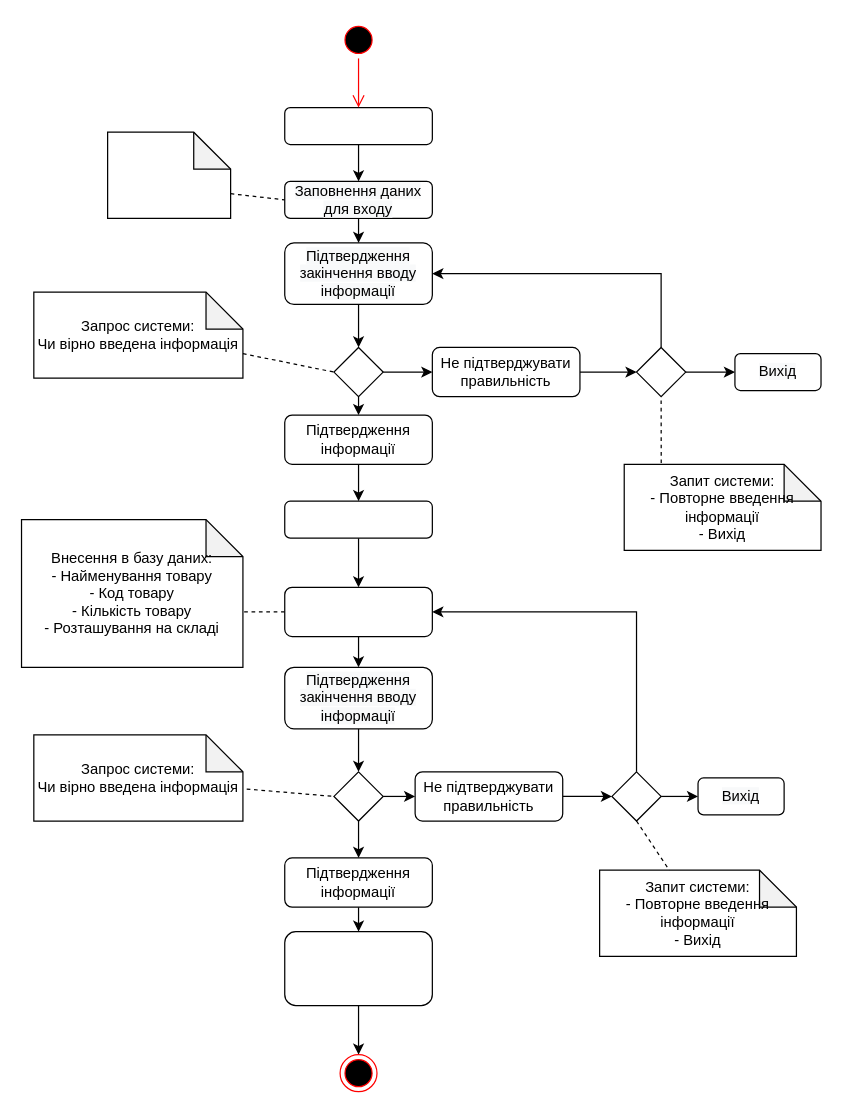
Some shapes in this 843 by 1113 pixel diagram are drawn without their labels. The box of each missing label's shape, as (x1, y1, x2, y2) in pixels:
1.Логин 2.Пароль: (106, 131, 231, 218)
Вхід до бази даних: (284, 500, 432, 538)
Вхід до системи: (284, 106, 432, 145)
Дані успішно збереженно: (284, 930, 432, 1006)
Доповнення бази даних: (284, 586, 432, 637)
